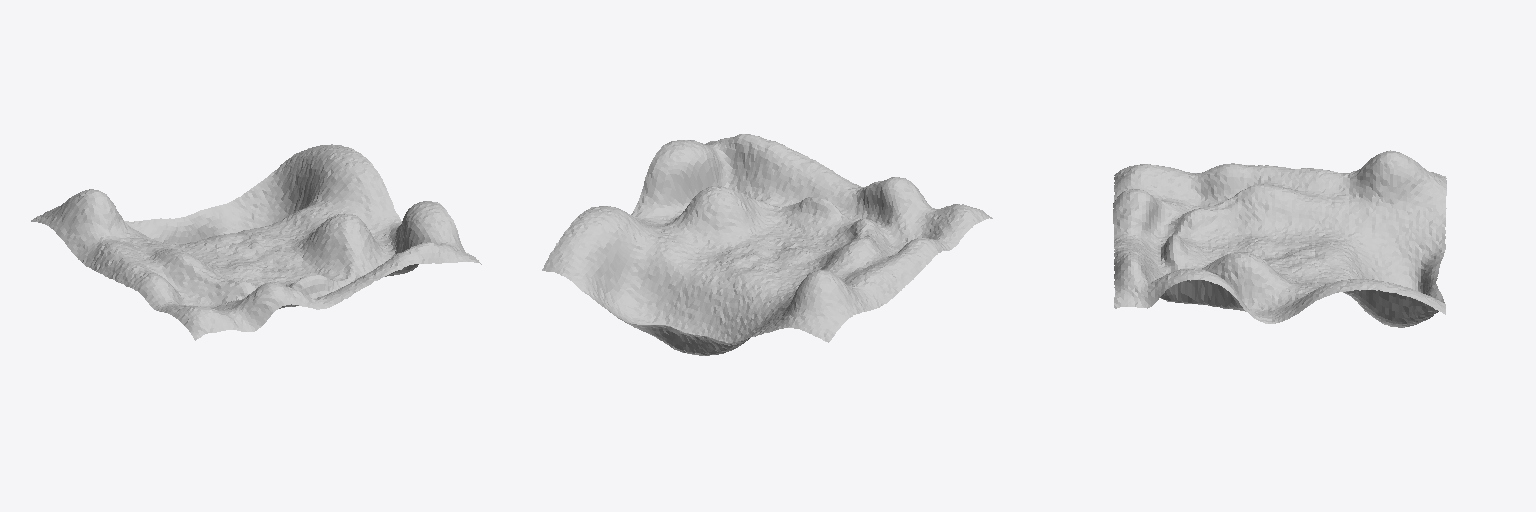
Rendered from terrain.obj.
The picture shows the model from 3 angles: view 1: azimuth 30°, elevation 25°; view 2: azimuth 150°, elevation 25°; view 3: azimuth 270°, elevation 25°; orthographic projection.
Visible parts, largest first — view 1: terrain; view 2: terrain; view 3: terrain.
Part boxes in pixels (bbox=[...]): terrain: bbox=[31, 144, 481, 340]; terrain: bbox=[542, 134, 992, 355]; terrain: bbox=[1113, 150, 1446, 327].
Size of the model in its own units: 40.78 by 13.54 by 40.34.